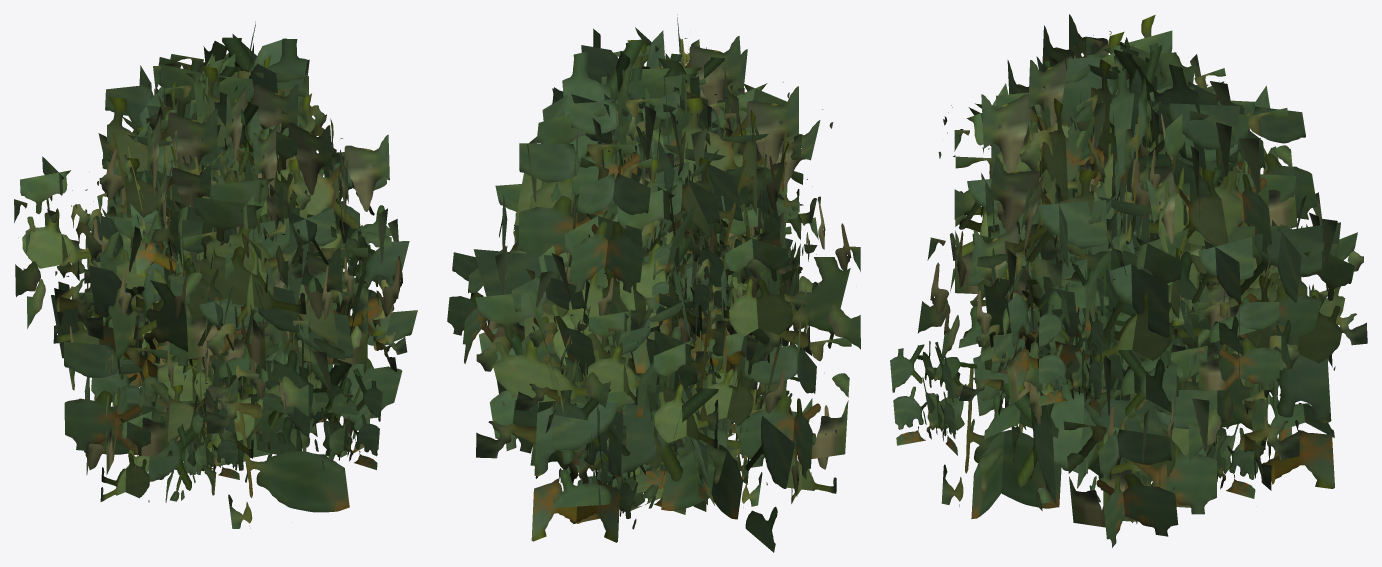
The model's file is rounded-shrub-lod1.glb.
3 views of the same model, side by side, from view 1: azimuth 30°, elevation 25°; view 2: azimuth 150°, elevation 25°; view 3: azimuth 270°, elevation 25° (orthographic). The views are drawn at different scales.
Parts seen in each view (by area): view 1: foliage; view 2: foliage; view 3: foliage.
Part boxes in pixels (x1,y1,x2,y2): foliage: (14, 21, 417, 528); foliage: (447, 14, 860, 552); foliage: (890, 14, 1367, 547).
Size of the model in its own units: 1.16 by 1.27 by 1.16.
Materials: 1 (1 with a texture image).
